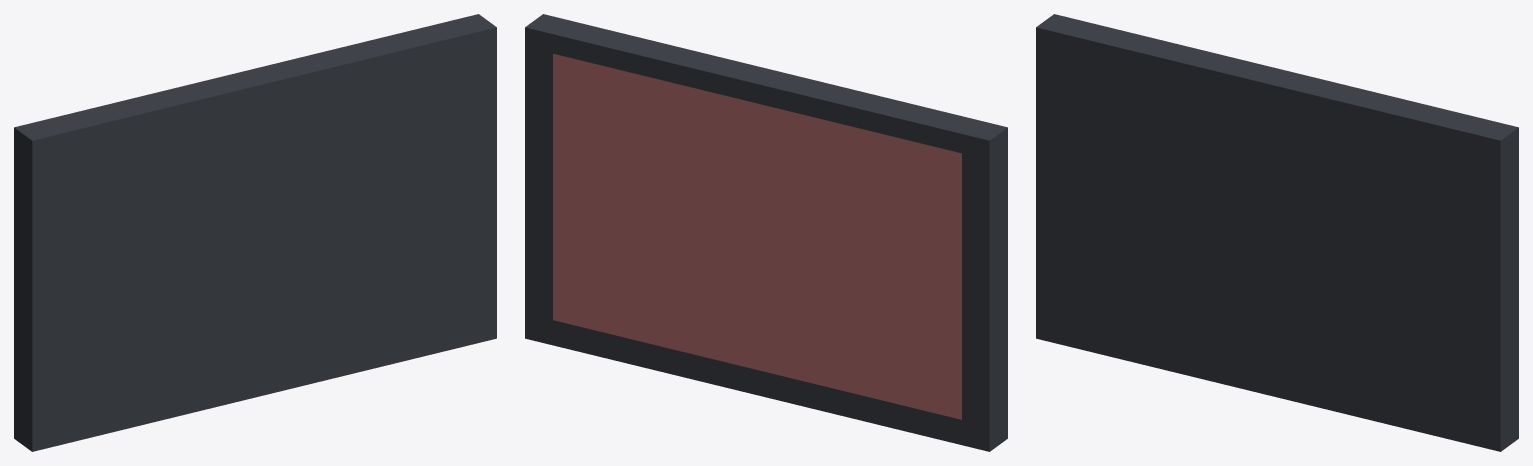
File: step_02.glb
3 renders of one model, left to right at view 1: azimuth 30°, elevation 25°; view 2: azimuth 150°, elevation 25°; view 3: azimuth 330°, elevation 25°, orthographic.
Visible parts, largest first — view 1: part__entertainment screen; view 2: removed__entertainment screen, part__entertainment screen; view 3: part__entertainment screen.
Part boxes in pixels (x1,y1,x2,y2): part__entertainment screen: (14,14,496,451); removed__entertainment screen: (553,53,961,419); part__entertainment screen: (525,14,1007,451); part__entertainment screen: (1036,14,1518,451).
Bounding box in the file's own units: 250 × 160 × 17.
